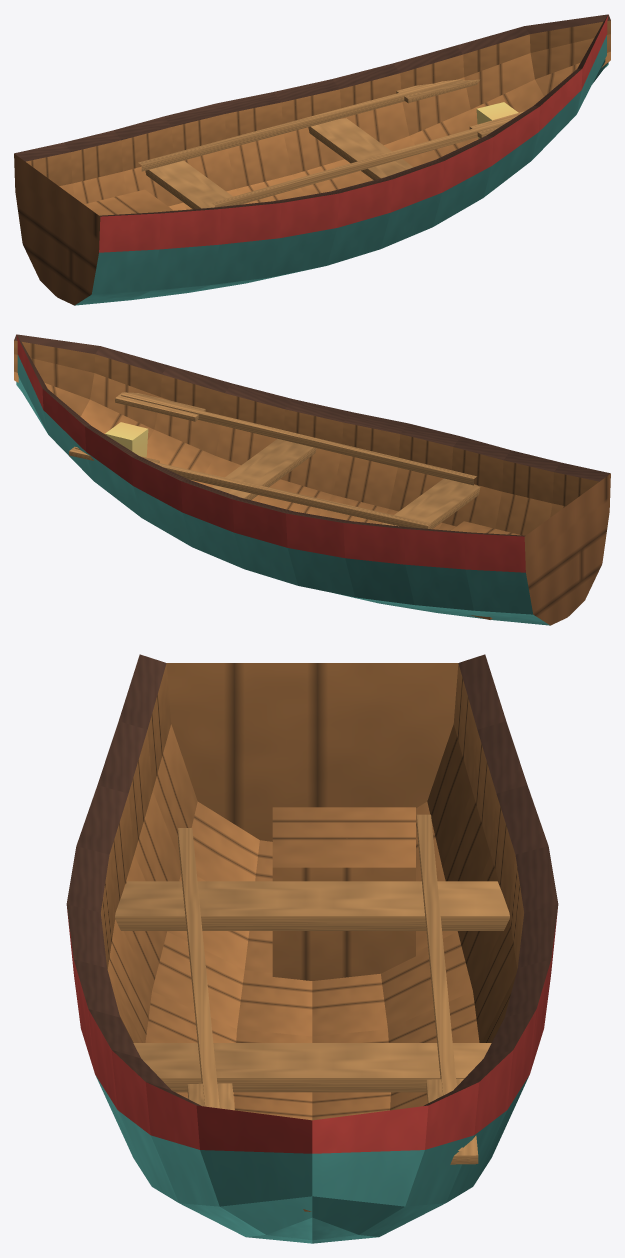
The model's file is boat_rowboat_02.glb.
The picture shows the model from 3 angles, top to bottom: view 1: azimuth 30°, elevation 25°; view 2: azimuth 150°, elevation 25°; view 3: azimuth 270°, elevation 25°; orthographic projection. The views are drawn at different scales.
Visible parts, largest first — view 1: boat_rowboat_02; view 2: boat_rowboat_02; view 3: boat_rowboat_02.
Boxes of the visible parts, x1,y1,x2,y2 form: boat_rowboat_02: (14, 14, 610, 305); boat_rowboat_02: (14, 334, 610, 625); boat_rowboat_02: (66, 654, 558, 1243).
Bounding box in the file's own units: 4 × 1.12 × 1.54.
1 material, 1 textured.
